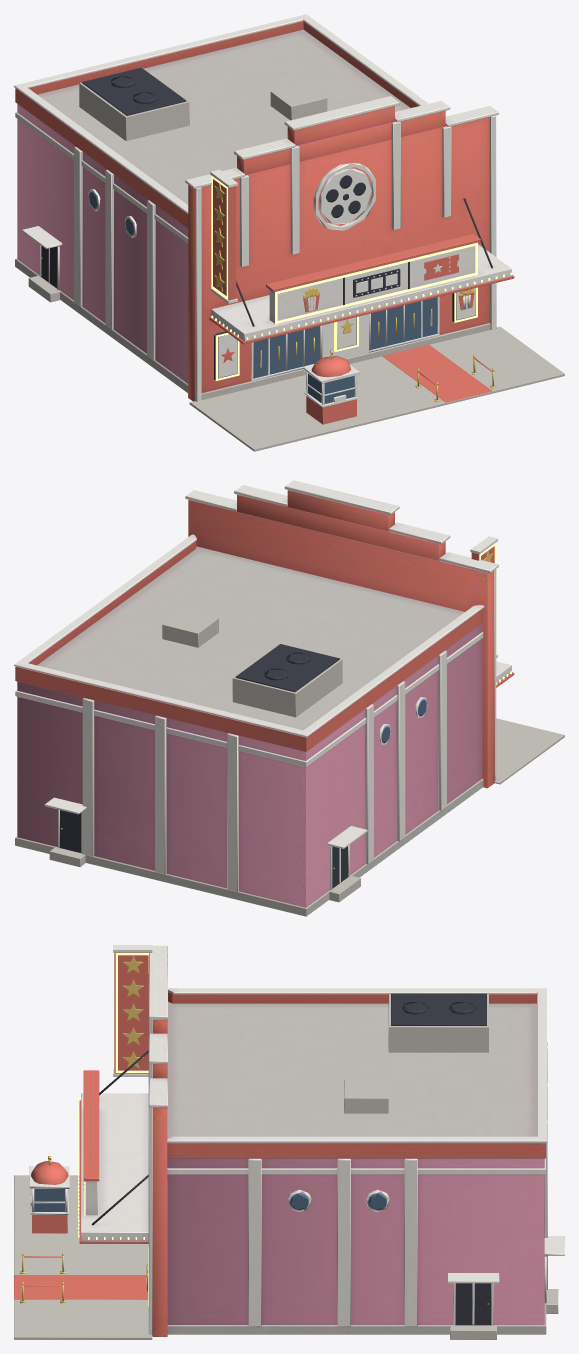
File: cinema-2BFRAWNL.glb
3 renders of one model, top to bottom at view 1: azimuth 30°, elevation 25°; view 2: azimuth 150°, elevation 25°; view 3: azimuth 270°, elevation 25°, orthographic. The views are drawn at different scales.
Visible parts, largest first — view 1: cinema_body, cinema_details, cinema_emblems, cinema_lights; view 2: cinema_body, cinema_details; view 3: cinema_body, cinema_details, cinema_emblems, cinema_lights.
Part boxes in pixels (left/top/right/bottom): cinema_body: left=14, top=14, right=514, bottom=401; cinema_details: left=22, top=67, right=564, bottom=451; cinema_emblems: left=210, top=163, right=458, bottom=312; cinema_lights: left=211, top=175, right=512, bottom=380; cinema_body: left=14, top=480, right=514, bottom=916; cinema_details: left=44, top=609, right=564, bottom=902; cinema_body: left=79, top=945, right=547, bottom=1336; cinema_details: left=14, top=993, right=564, bottom=1339; cinema_emblems: left=83, top=945, right=152, bottom=1189; cinema_lights: left=77, top=953, right=148, bottom=1306.
Bounding box in the file's own units: 17.8 × 13.36 × 24.7.
8 materials, 1 textured.
